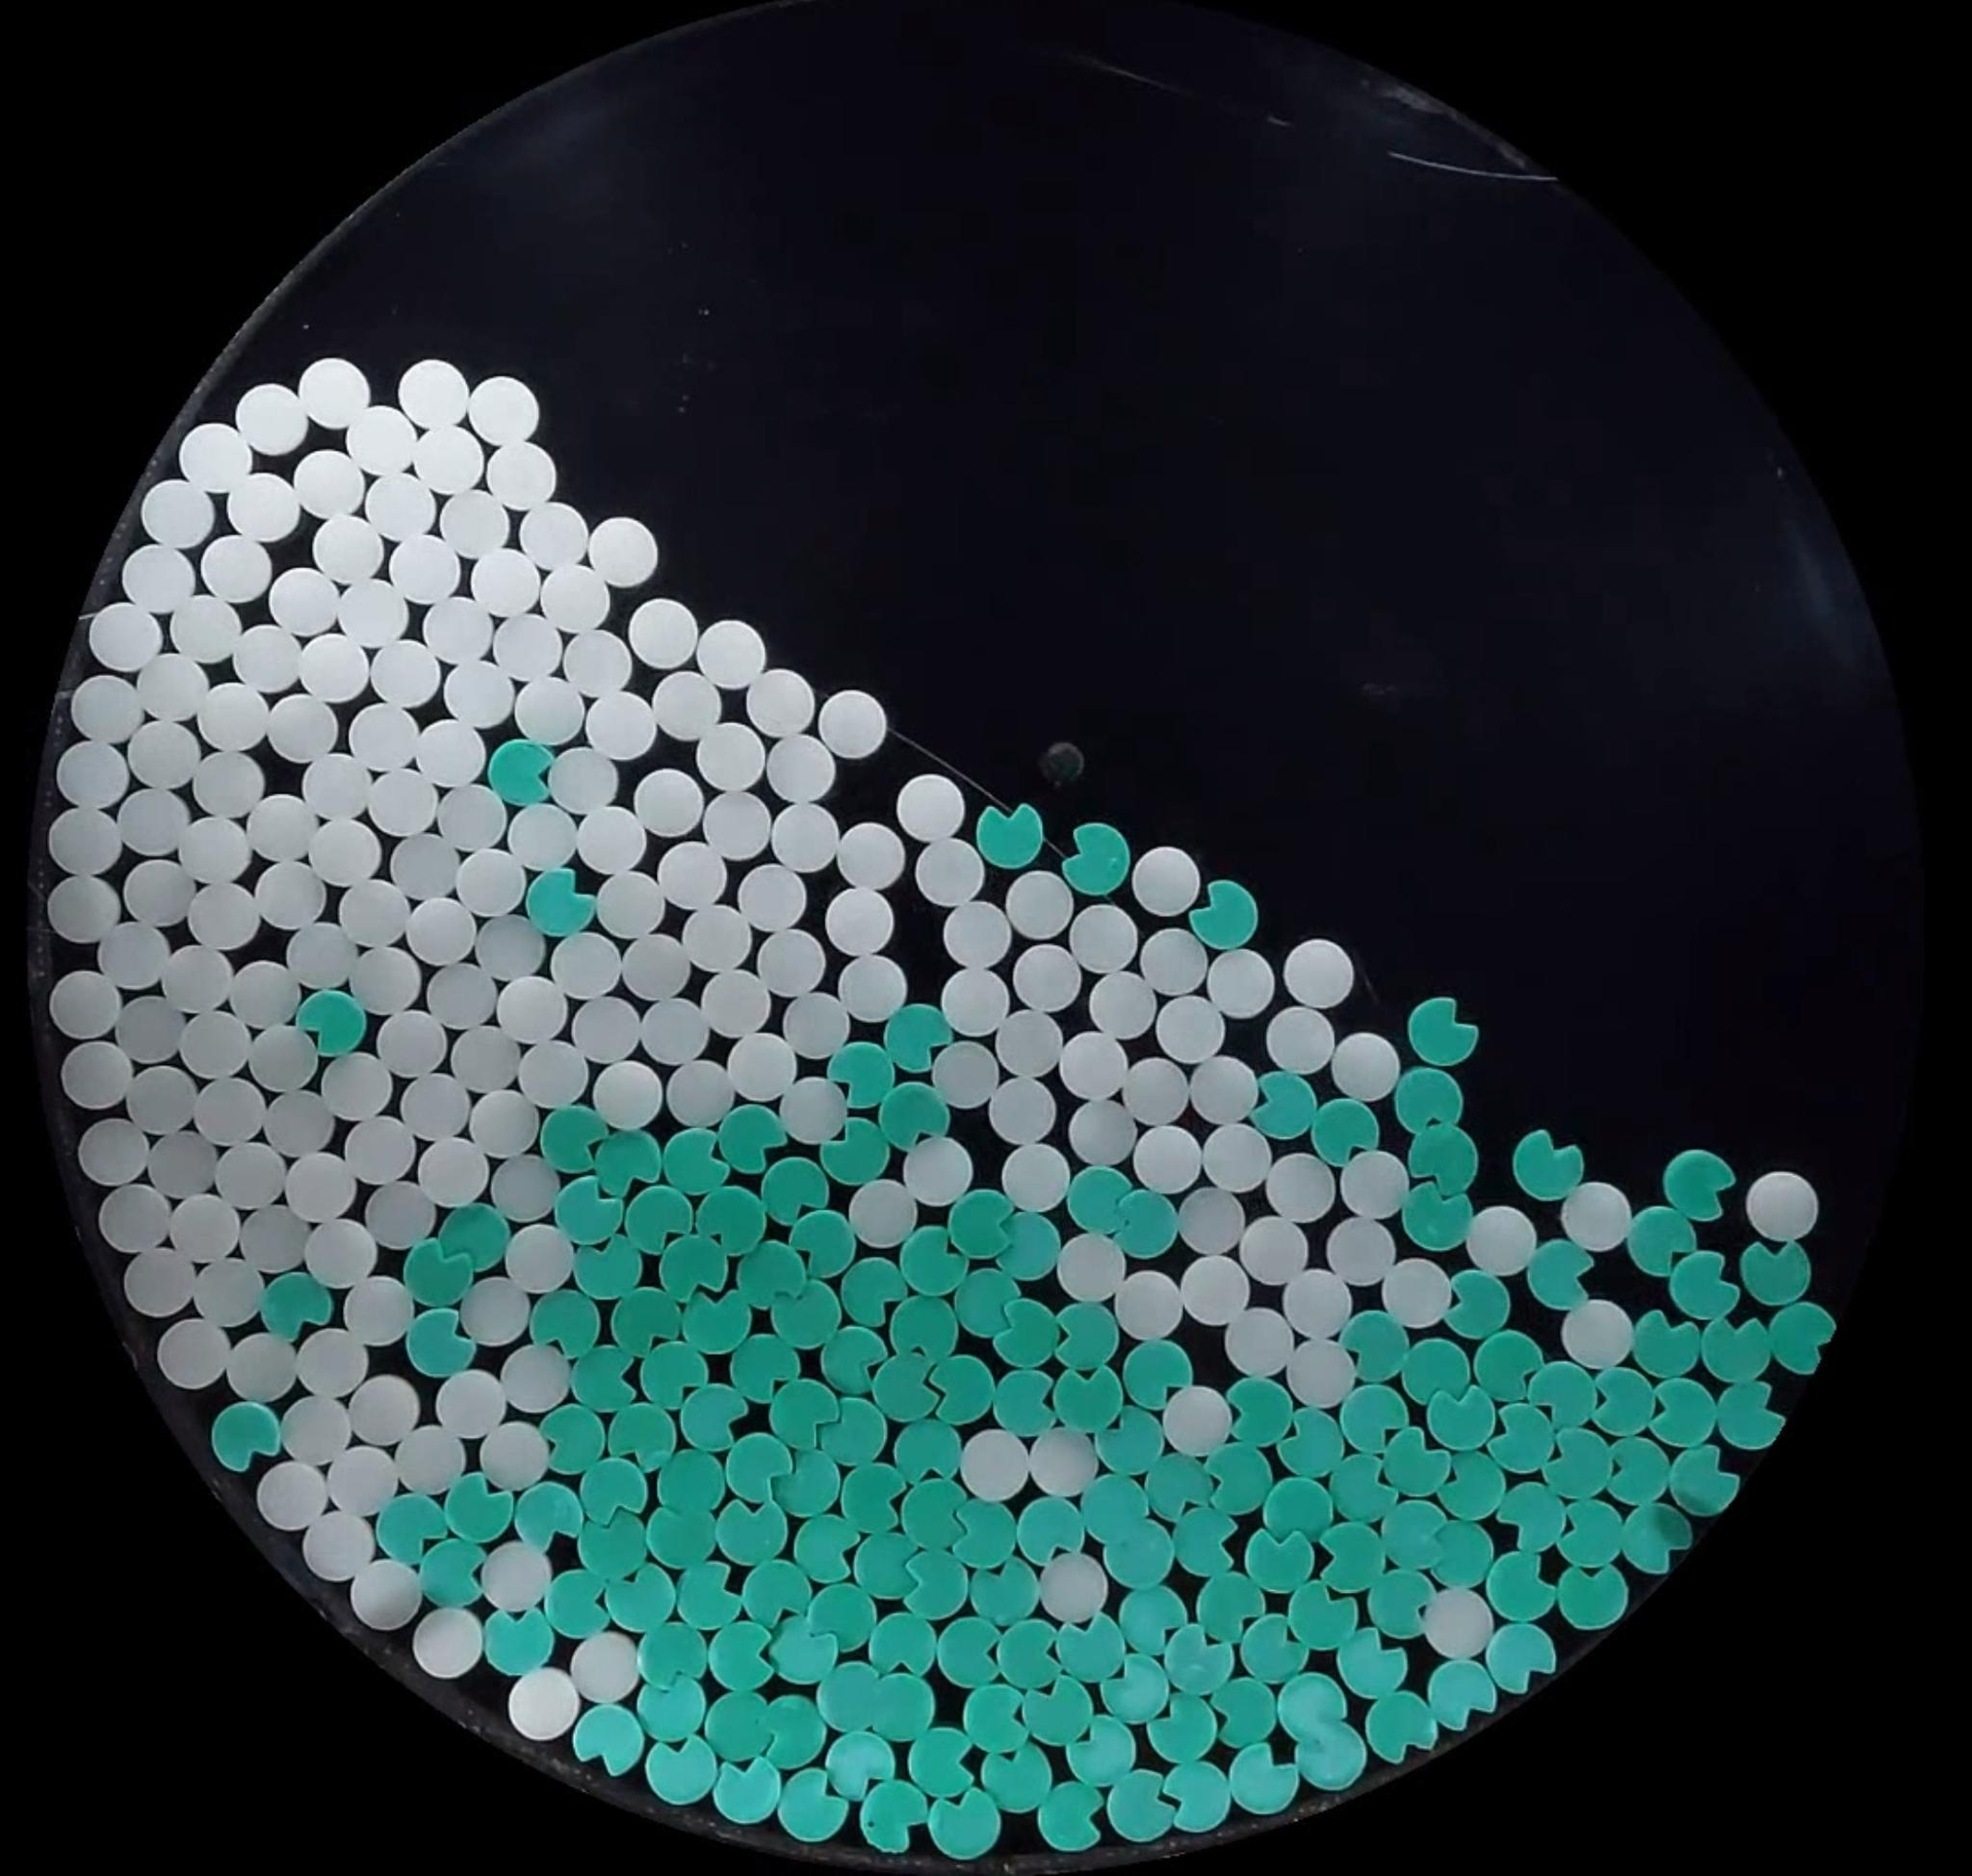no-convexa1: (748, 1682, 849, 1777), (1347, 1548, 1439, 1651), (1313, 1427, 1405, 1517), (1118, 1688, 1217, 1770), (1366, 1480, 1449, 1575), (627, 1337, 718, 1418), (1296, 1520, 1393, 1596), (710, 1328, 803, 1406), (639, 1230, 732, 1305), (1097, 1501, 1176, 1589), (938, 1480, 1023, 1561), (893, 1404, 968, 1494), (1495, 1460, 1556, 1569), (607, 1282, 690, 1363), (641, 1494, 722, 1577), (1535, 1407, 1613, 1494), (1058, 1163, 1146, 1238), (1574, 1353, 1646, 1444), (646, 1434, 724, 1518), (780, 1265, 850, 1356), (599, 1393, 680, 1473), (535, 1562, 618, 1640), (1609, 1416, 1678, 1510), (762, 1448, 847, 1524), (1160, 1506, 1247, 1580), (1431, 1508, 1497, 1605), (708, 1487, 785, 1568), (784, 1508, 859, 1591), (1213, 1381, 1289, 1464), (1558, 1496, 1634, 1578), (1120, 1332, 1194, 1416), (1490, 1392, 1562, 1478), (1439, 1436, 1504, 1531), (1002, 1362, 1071, 1451), (1333, 1307, 1409, 1388), (1111, 1580, 1187, 1661), (1196, 1562, 1269, 1645), (965, 1559, 1049, 1631), (872, 1339, 940, 1427), (1097, 1400, 1166, 1488), (812, 1112, 887, 1191), (764, 1379, 840, 1459), (1067, 1466, 1146, 1541), (1530, 1356, 1600, 1441), (907, 1215, 974, 1304), (1225, 1606, 1301, 1684), (946, 1691, 1026, 1763), (1384, 1413, 1451, 1499), (946, 1261, 1025, 1333), (745, 1550, 817, 1629), (759, 1157, 842, 1226), (1424, 1374, 1491, 1459), (1277, 1675, 1352, 1749), (666, 1379, 739, 1455), (1204, 1677, 1282, 1749), (519, 867, 599, 937), (259, 1270, 333, 1344), (842, 1457, 905, 1543), (375, 1492, 447, 1568), (1000, 1208, 1069, 1288), (898, 1481, 977, 1550), (815, 1307, 873, 1400), (923, 1344, 990, 1425), (789, 1201, 856, 1282), (949, 1182, 1014, 1265), (1488, 1545, 1553, 1628), (481, 1605, 555, 1677), (572, 1702, 644, 1776), (1701, 1312, 1773, 1386), (1338, 1626, 1410, 1700), (403, 1237, 477, 1309), (437, 1201, 511, 1274), (488, 733, 562, 805), (299, 986, 377, 1055), (1152, 1443, 1213, 1529), (560, 1173, 627, 1252), (572, 1337, 639, 1416), (967, 805, 1046, 872), (1664, 1148, 1736, 1221), (1426, 1658, 1498, 1730), (1512, 1129, 1585, 1201), (210, 1400, 282, 1473), (643, 1735, 717, 1806), (578, 1508, 648, 1582), (1740, 1238, 1814, 1309), (1407, 995, 1481, 1066), (593, 1124, 667, 1194), (1333, 1385, 1407, 1455), (1442, 1267, 1509, 1344), (840, 1531, 917, 1598), (1454, 1321, 1535, 1385), (416, 1536, 486, 1608), (636, 1621, 706, 1693), (604, 1564, 676, 1635), (578, 1455, 648, 1527), (403, 1307, 474, 1379), (1627, 1207, 1697, 1279), (1188, 879, 1259, 951), (1766, 1300, 1836, 1372), (1407, 1122, 1479, 1193), (1648, 1376, 1718, 1448), (1294, 1721, 1366, 1791), (704, 1693, 776, 1763), (1062, 824, 1132, 897), (819, 1661, 889, 1733), (569, 1228, 641, 1298), (1284, 1573, 1343, 1658), (819, 1386, 877, 1473), (444, 1474, 514, 1545), (636, 1672, 706, 1742), (1162, 1762, 1232, 1832), (886, 1293, 956, 1363), (824, 1732, 894, 1802), (1622, 1501, 1692, 1571), (866, 1605, 937, 1675), (1486, 1621, 1555, 1693), (514, 1480, 583, 1552), (695, 1185, 764, 1258), (1527, 1238, 1595, 1311), (768, 1617, 840, 1686), (1229, 1742, 1298, 1814), (1402, 1184, 1474, 1252), (1715, 1377, 1784, 1448), (713, 1756, 782, 1827), (530, 1288, 599, 1358), (539, 1104, 609, 1173), (1104, 1770, 1173, 1841), (1252, 1073, 1322, 1141), (1021, 1680, 1092, 1749), (722, 1434, 791, 1504), (805, 1584, 875, 1652), (884, 1002, 953, 1073), (1262, 1474, 1333, 1543), (1099, 1656, 1169, 1725), (1164, 1626, 1232, 1696), (708, 1621, 775, 1693), (1669, 1249, 1736, 1321), (676, 1562, 745, 1631), (931, 1790, 1000, 1858), (739, 1240, 808, 1309), (1368, 1691, 1437, 1760), (901, 1548, 970, 1617), (625, 1185, 692, 1256), (778, 1769, 845, 1839), (1055, 1615, 1125, 1682), (1053, 1367, 1123, 1434), (1023, 1494, 1093, 1561), (1204, 1441, 1259, 1525), (1636, 1309, 1694, 1388), (1558, 1562, 1627, 1629), (718, 1103, 785, 1171), (778, 1776, 847, 1843), (859, 1779, 926, 1848), (1671, 1451, 1740, 1518), (1394, 1066, 1465, 1131), (880, 1082, 947, 1148), (1312, 1097, 1379, 1164), (1067, 1717, 1134, 1784), (537, 1407, 604, 1474), (866, 1672, 931, 1740), (1107, 1777, 1176, 1843), (1245, 1518, 1310, 1587), (826, 1041, 893, 1106), (910, 1732, 975, 1798), (986, 1740, 1053, 1806), (683, 1289, 750, 1355), (1039, 1784, 1104, 1850), (986, 1747, 1051, 1813), (1115, 1189, 1180, 1254), (843, 1267, 907, 1332), (997, 1305, 1060, 1370), (935, 1612, 998, 1677), (667, 1129, 731, 1193), (1402, 1344, 1461, 1411), (1051, 1295, 1109, 1363), (997, 1626, 1053, 1696), (1273, 1414, 1326, 1487)
